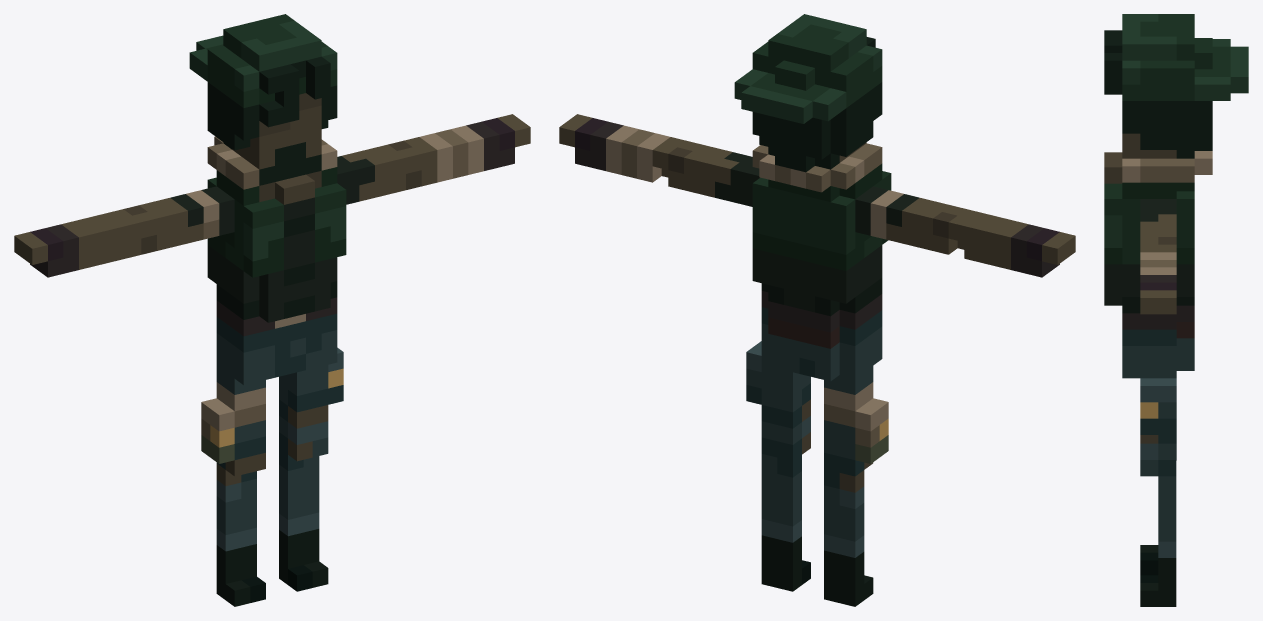
The picture shows the model from 3 angles, left to right: view 1: azimuth 30°, elevation 25°; view 2: azimuth 150°, elevation 25°; view 3: azimuth 270°, elevation 25°; orthographic projection.
Parts seen in each view (by area): view 1: Character_Hero; view 2: Character_Hero; view 3: Character_Hero.
Part boxes in pixels (bbox=[...]): Character_Hero: bbox=[14, 14, 530, 606]; Character_Hero: bbox=[559, 14, 1075, 606]; Character_Hero: bbox=[1104, 14, 1248, 606].
Bounding box in the file's own units: 1.6 × 1.7 × 0.4.
1 material, 1 textured.
